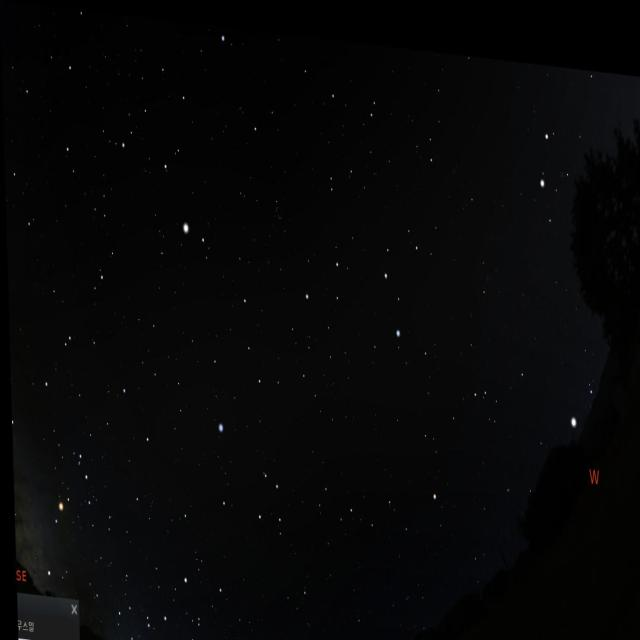bootes: (126, 37, 204, 253)
leo: (290, 172, 432, 352)
scorpius: (10, 430, 100, 590)
